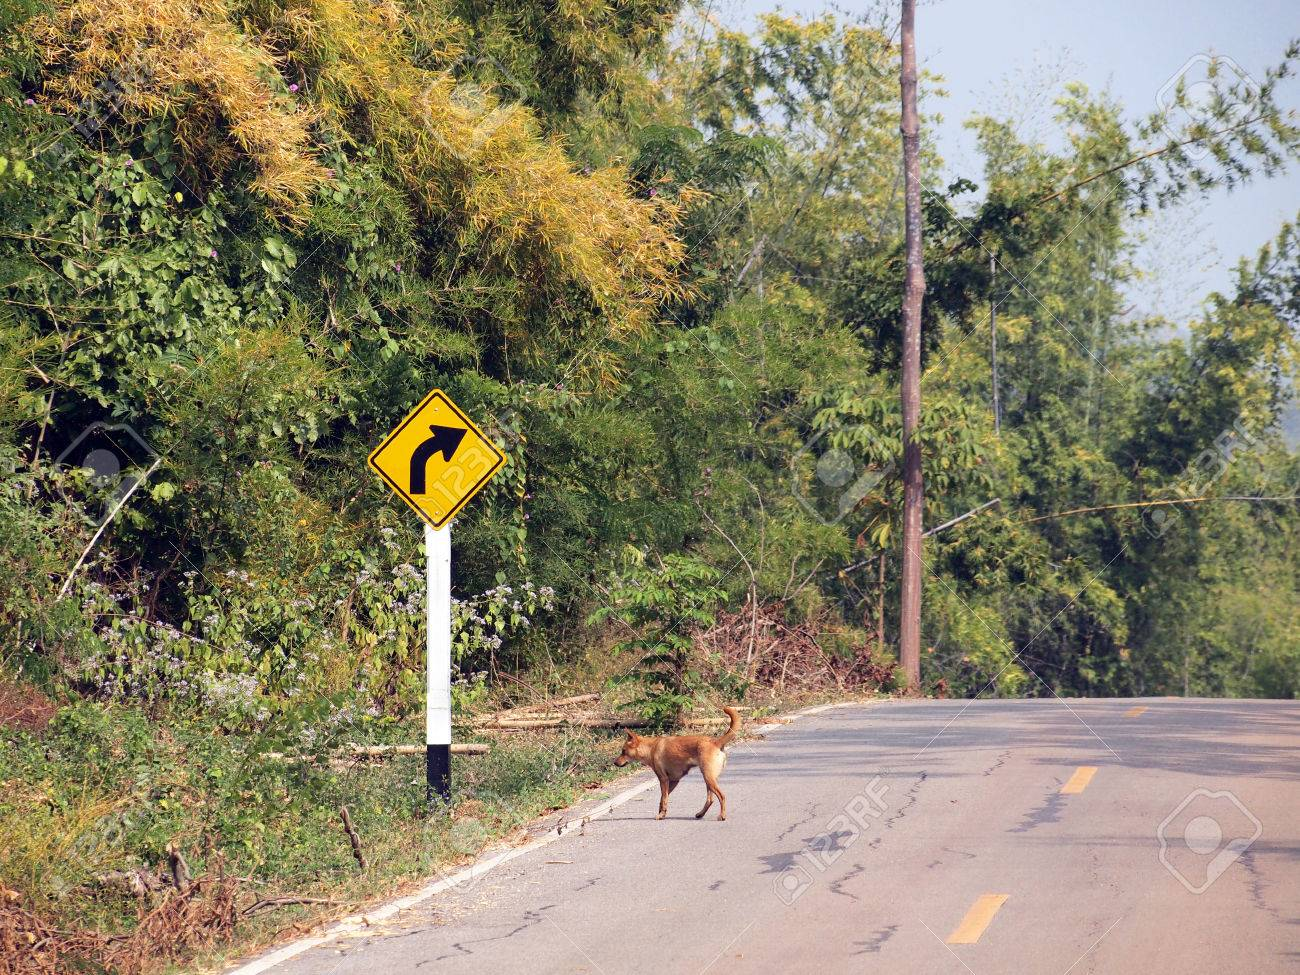right: (365, 384, 508, 529)
